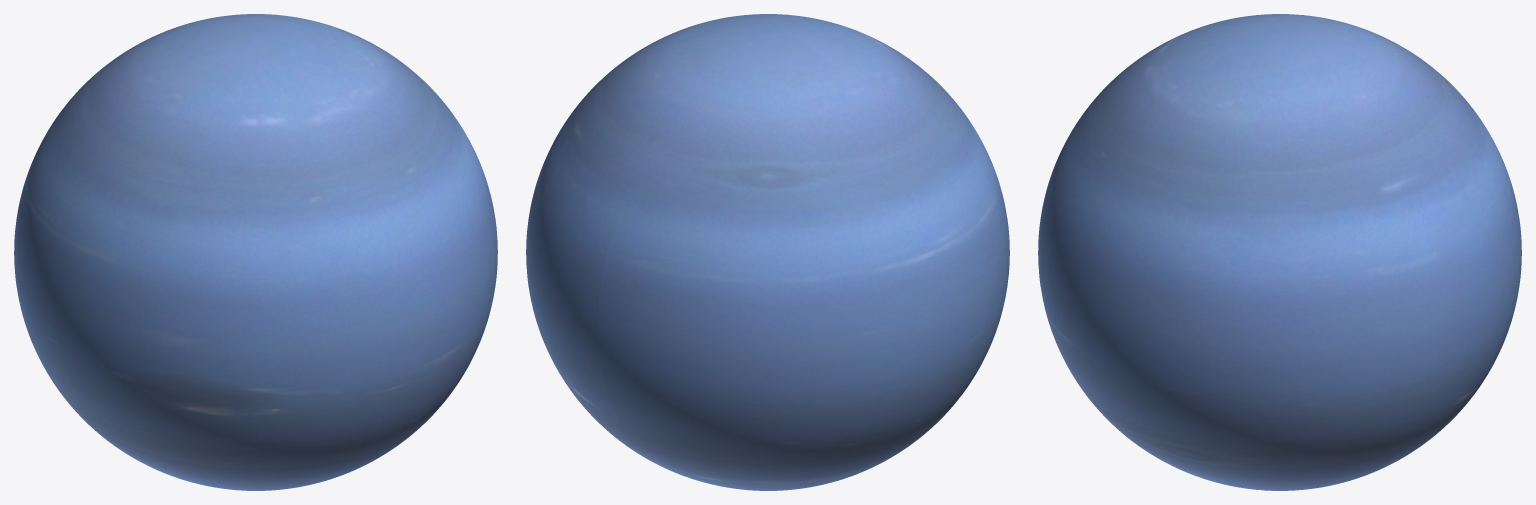
The model's file is neptune.glb.
3 views of the same model, side by side, from view 1: azimuth 30°, elevation 25°; view 2: azimuth 150°, elevation 25°; view 3: azimuth 270°, elevation 25° (orthographic).
Visible parts, largest first — view 1: Body; view 2: Body; view 3: Body.
Part boxes in pixels (x1,y1,x2,y2): Body: (14,14,497,490); Body: (526,14,1009,490); Body: (1038,14,1521,490).
Bounding box in the file's own units: 2 × 1.97 × 2.
1 material, 1 textured.
